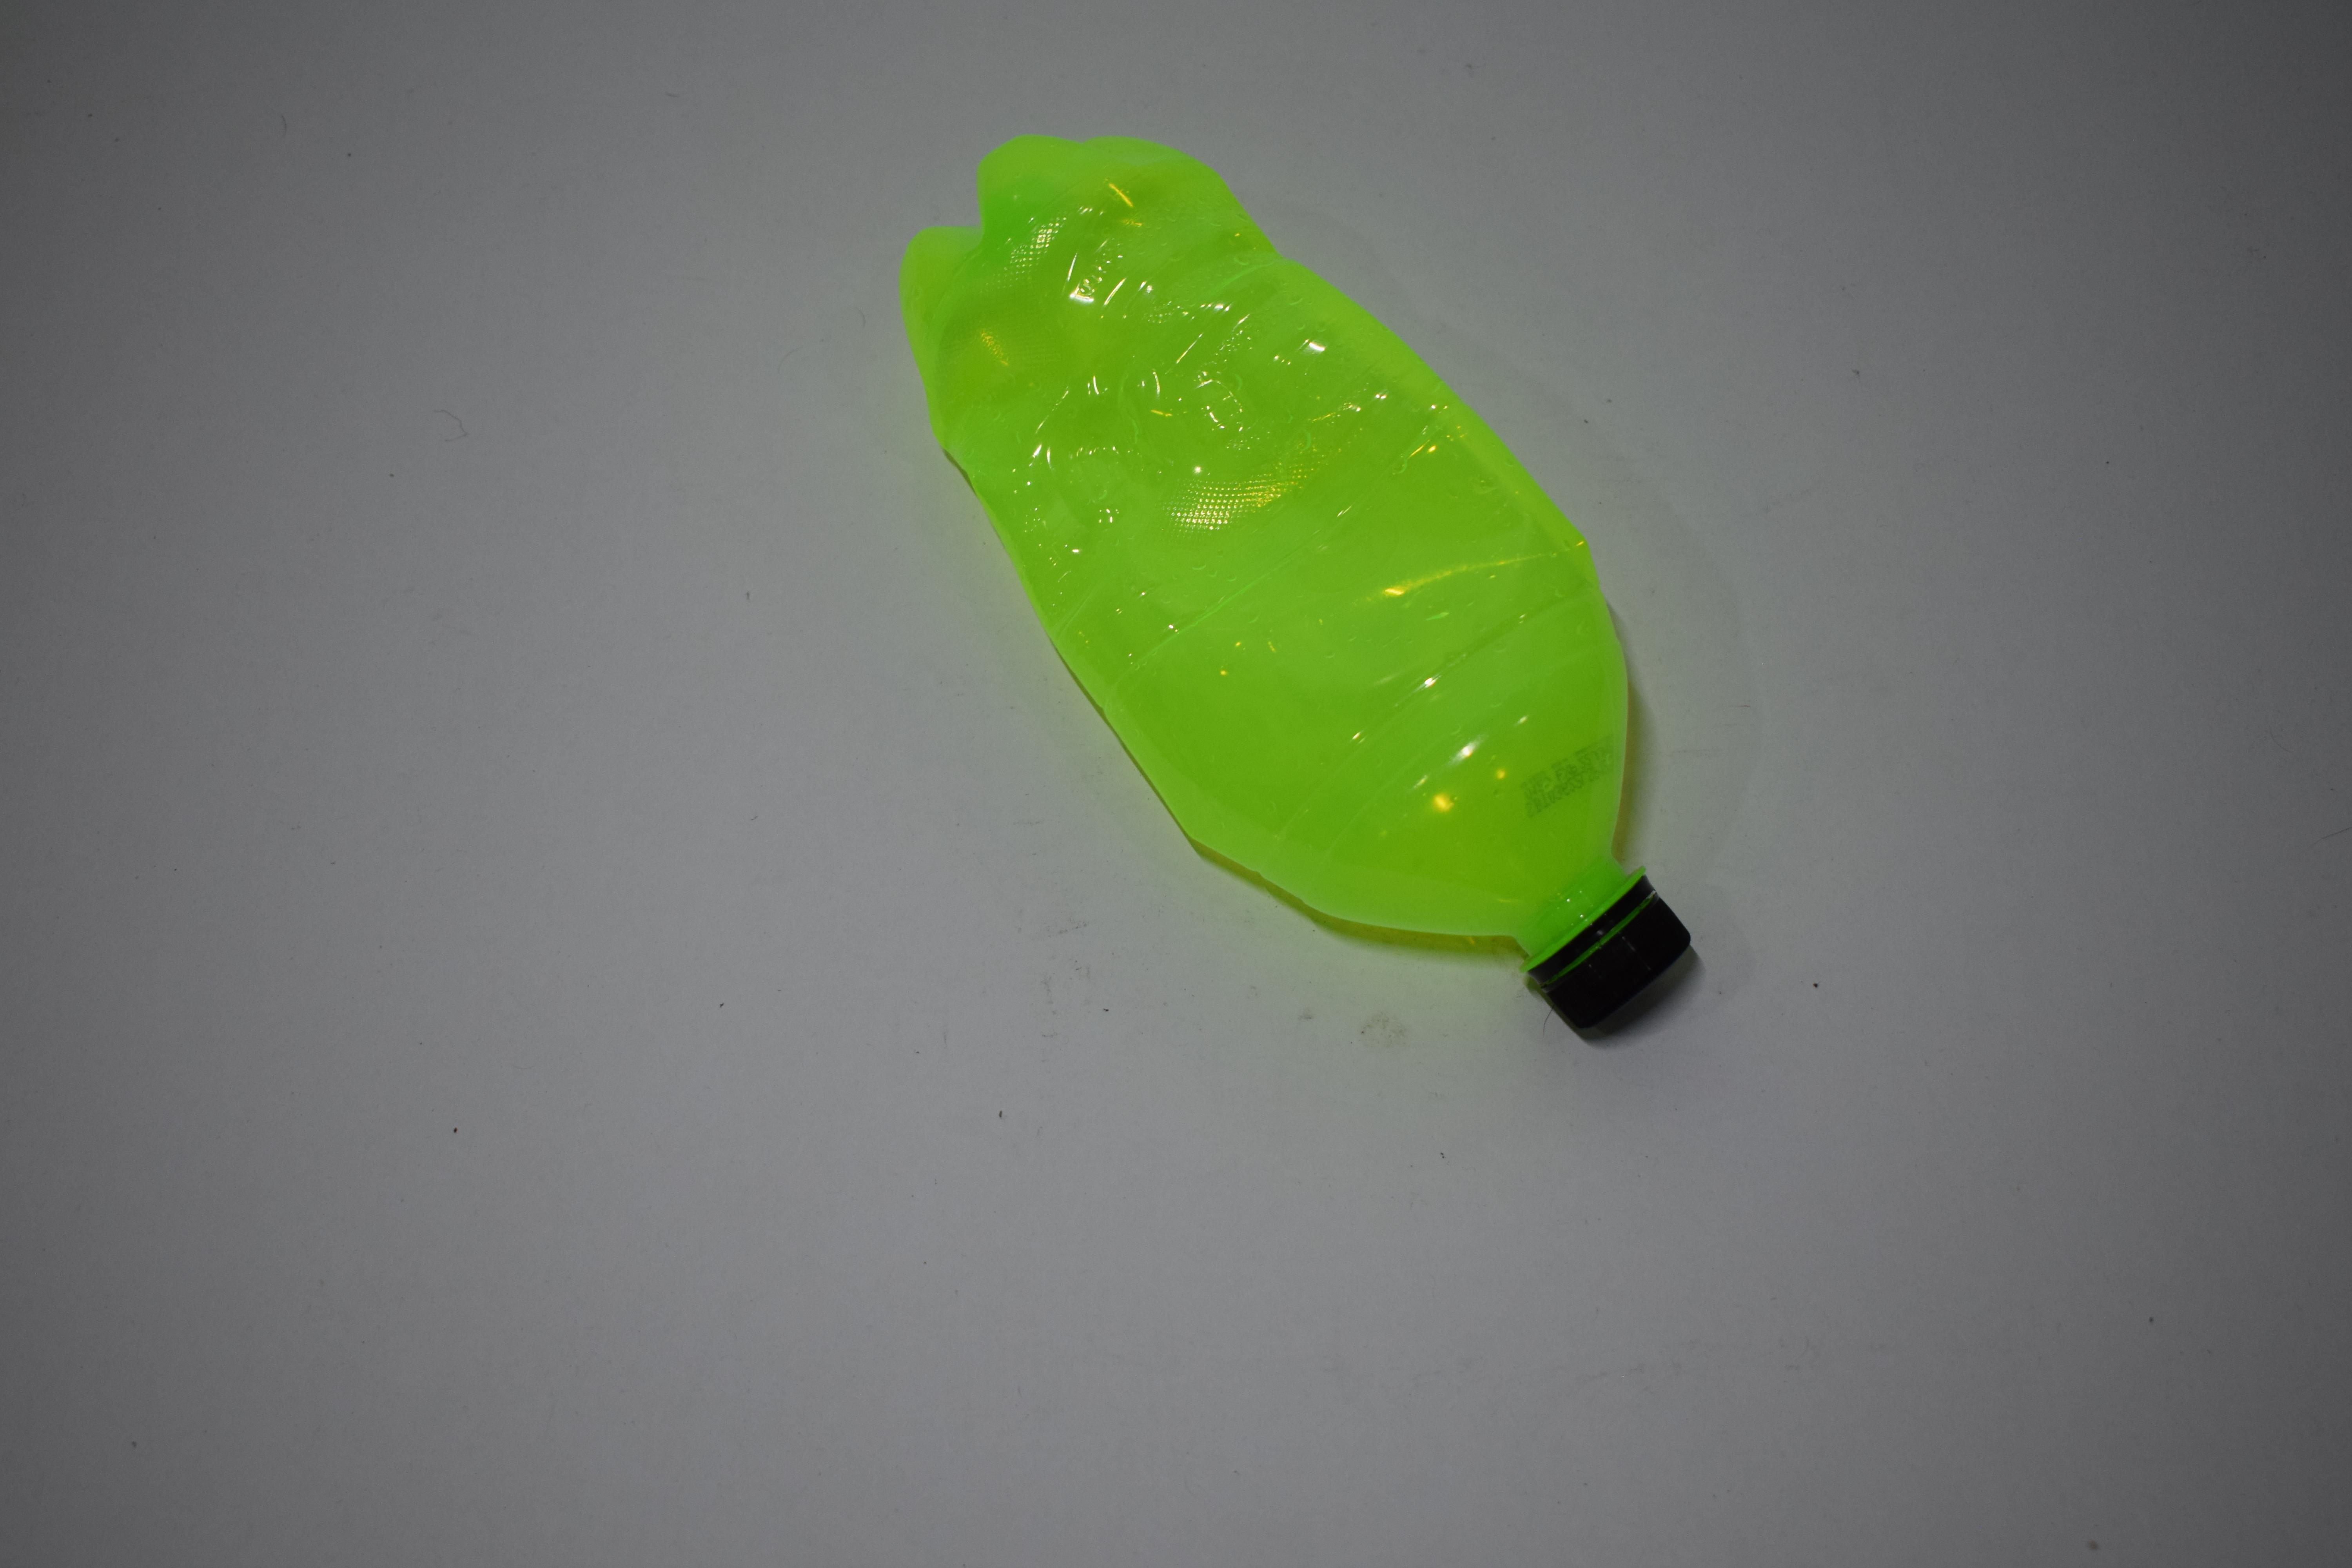bottle: (0, 521, 406, 651)
